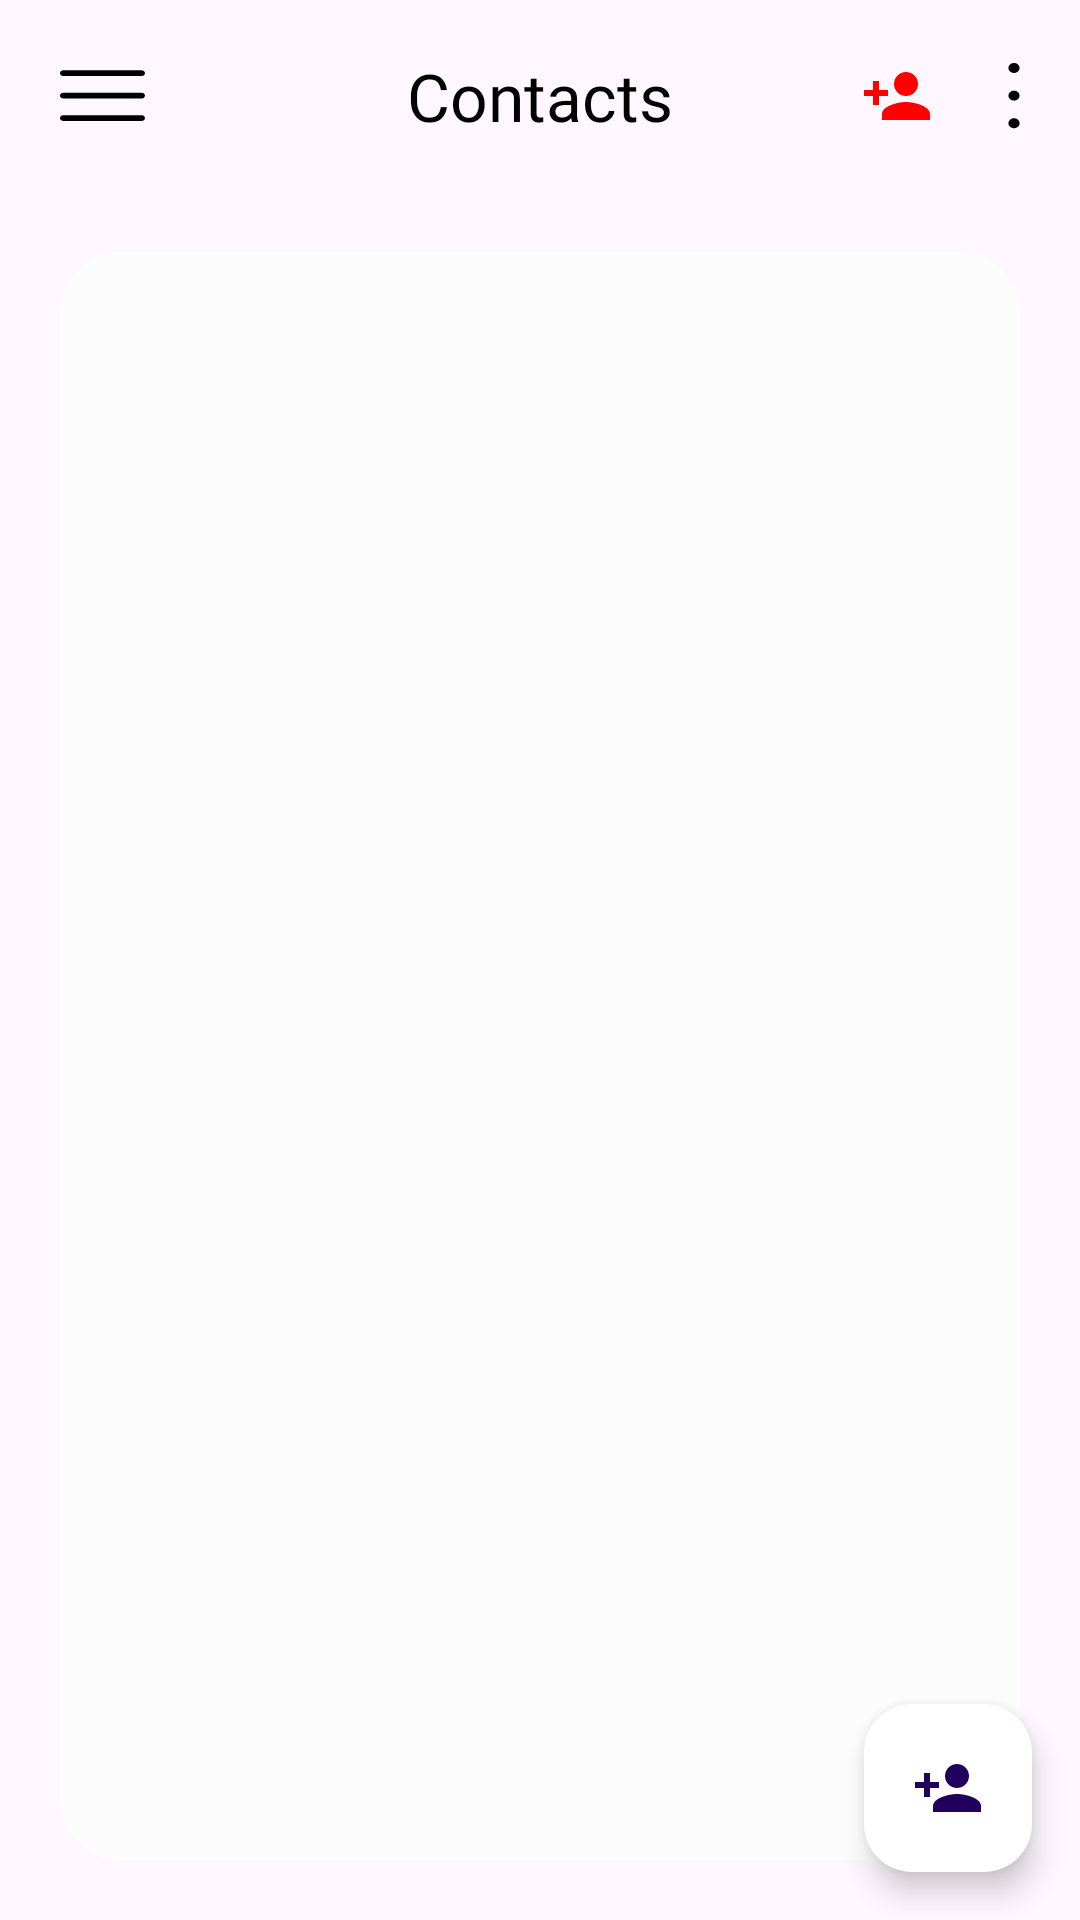

Screen size 1080 x 1920. Icon name, then its center in pixels as (x=x, y=y):
add: (x=897, y=96), (x=948, y=1788)
options: (x=1014, y=96)
toggle: (x=102, y=95)
